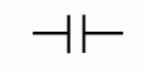Capacitor: (58, 8, 93, 61)
